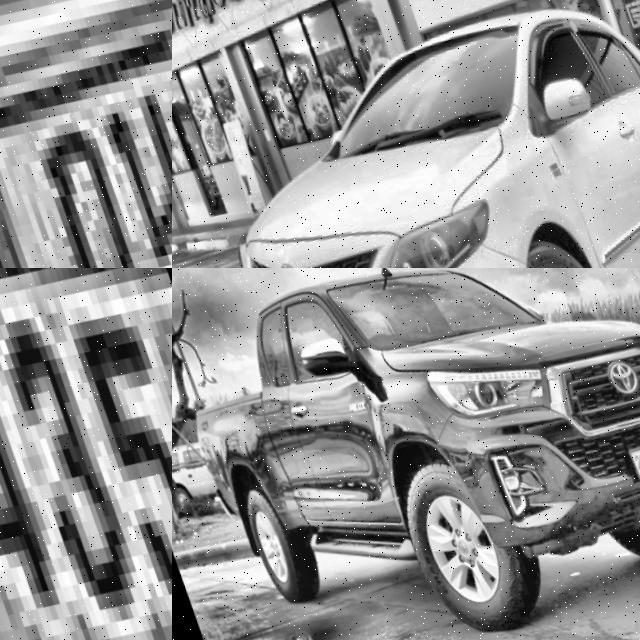license-plate: (0, 268, 172, 640), (0, 0, 172, 268), (616, 423, 640, 492)
